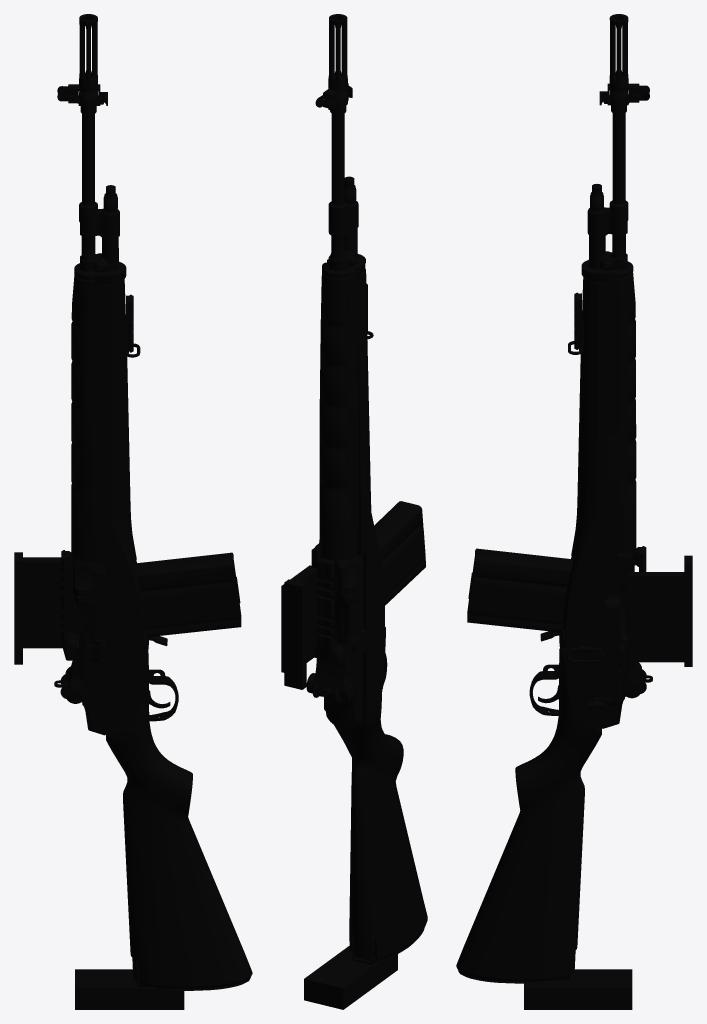
The model's file is M14__Mount_M14__RecoilPad_Rubber.fbx.
3 renders of one model, left to right at view 1: azimuth 90°, elevation 25°; view 2: azimuth 150°, elevation 25°; view 3: azimuth 270°, elevation 25°, orthographic.
Visible parts, largest first — view 1: asset_M14.001; view 2: asset_M14.001; view 3: asset_M14.001.
Part boxes in pixels (x1,y1,x2,y2): asset_M14.001: (14, 14, 252, 1009); asset_M14.001: (281, 14, 427, 1009); asset_M14.001: (456, 14, 692, 1009).
Size of the model in its own units: 0.044 by 0.687 by 0.1505.
